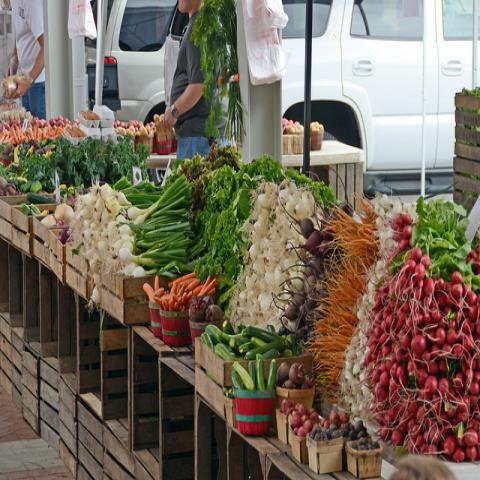car: (282, 0, 479, 169), (83, 0, 180, 130)
truck: (281, 1, 478, 193)
